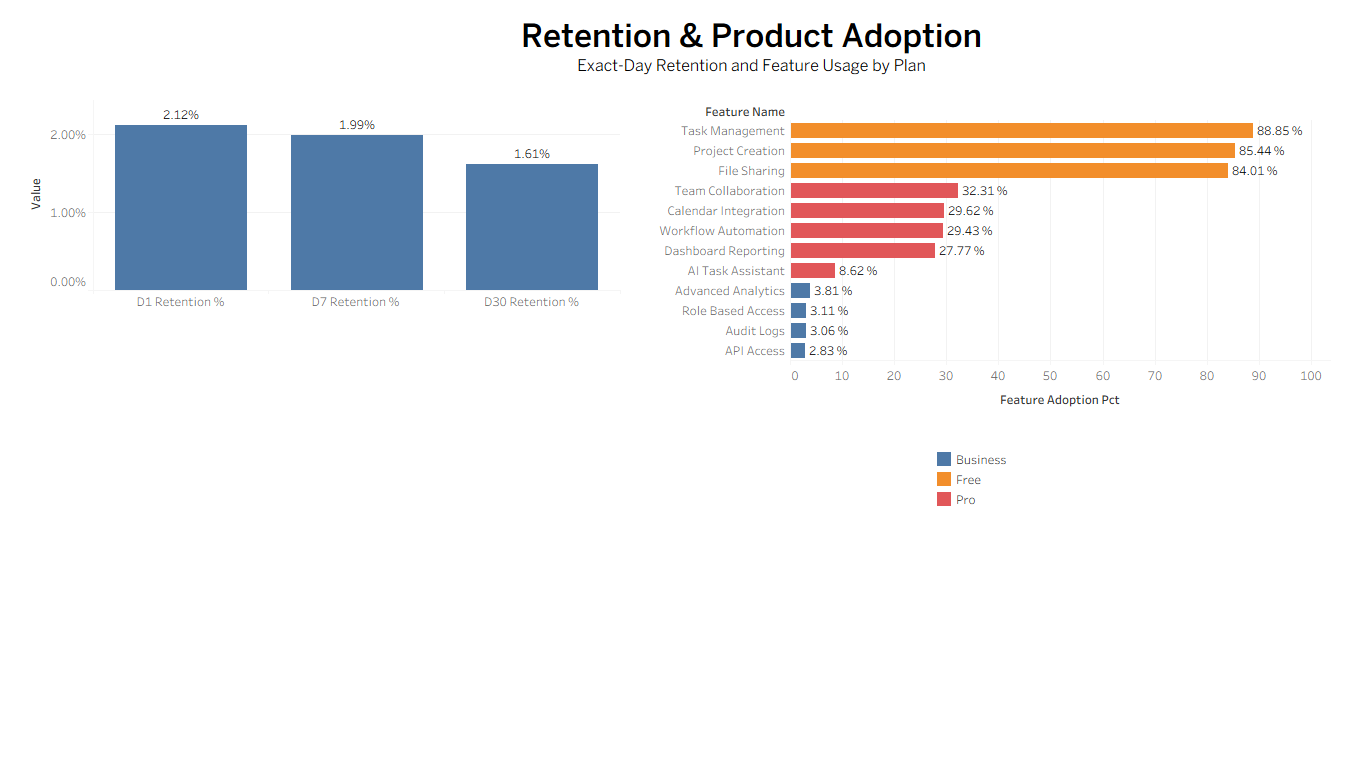

What the dashboard file says about the page in this screenshot:
{"tool":"tableau","page":{"name":"Retention & Product Adoption","canvas":[1366,768],"ordinal":2},"visuals":[{"type":"text","box":[477,6,549,81]},{"type":"worksheet","title":"Retention Overview","mark":"Automatic","box":[20,100,600,230]},{"type":"worksheet","title":"Feature Adoption","mark":"Automatic","rows":["FEATURE_NAME"],"cols":["FEATURE_ADOPTION_PCT"],"box":[650,100,680,345]},{"type":"legend","title":"Feature Adoption","param":"[federated.0ygao6g1kjkcag19f8atu0tlay5d].[none:MINIMUM_PLAN:nk]","box":[934,449,140,78]}]}

Visuals, with their boxes in screenshot pixels (x1, y1, x2, y2), scaled from the page's 1366x768 canvas onto the 1366x768 screenshot:
text: pyautogui.locateOnScreen(477, 6, 1026, 87)
"Retention Overview" worksheet: pyautogui.locateOnScreen(20, 100, 620, 330)
"Feature Adoption" worksheet: pyautogui.locateOnScreen(650, 100, 1330, 445)
"Feature Adoption" legend: pyautogui.locateOnScreen(934, 449, 1074, 527)
